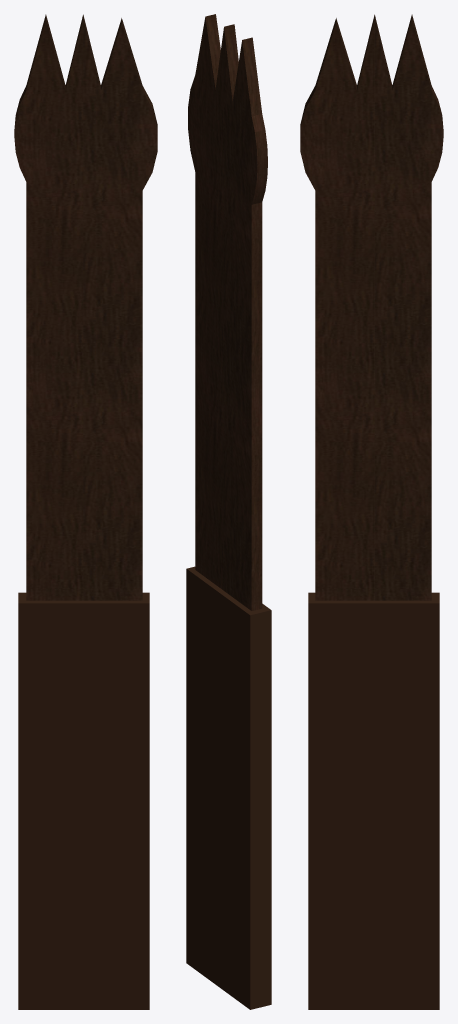
File: Fork2.dae
3 views of the same model, side by side, from view 1: azimuth 90°, elevation 25°; view 2: azimuth 210°, elevation 25°; view 3: azimuth 270°, elevation 25° (orthographic). The views are drawn at different scales.
Parts seen in each view (by area): view 1: SketchUp_001; view 2: SketchUp_001; view 3: SketchUp_001.
Part boxes in pixels (bbox=[...]): SketchUp_001: bbox=[14, 14, 157, 1009]; SketchUp_001: bbox=[186, 14, 271, 1009]; SketchUp_001: bbox=[300, 14, 443, 1009].
Bounding box in the file's own units: 0.0127 × 0.0721 × 0.5486.
Materials: 1 (1 with a texture image).
